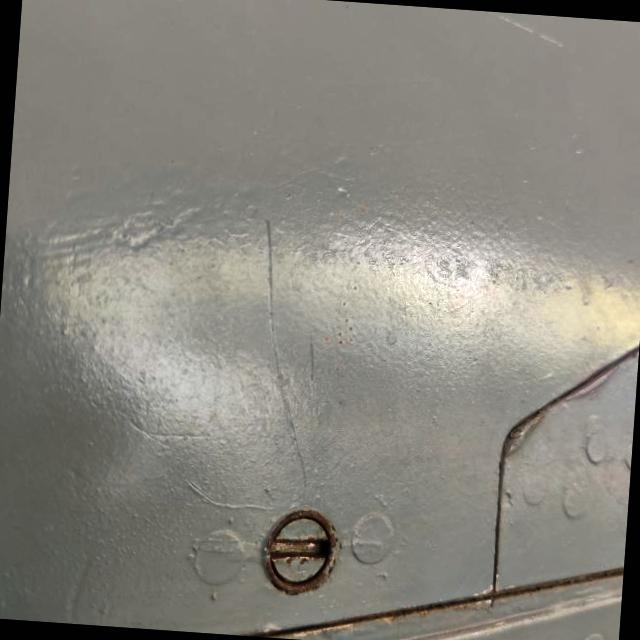scratch: (214, 212, 338, 498)
